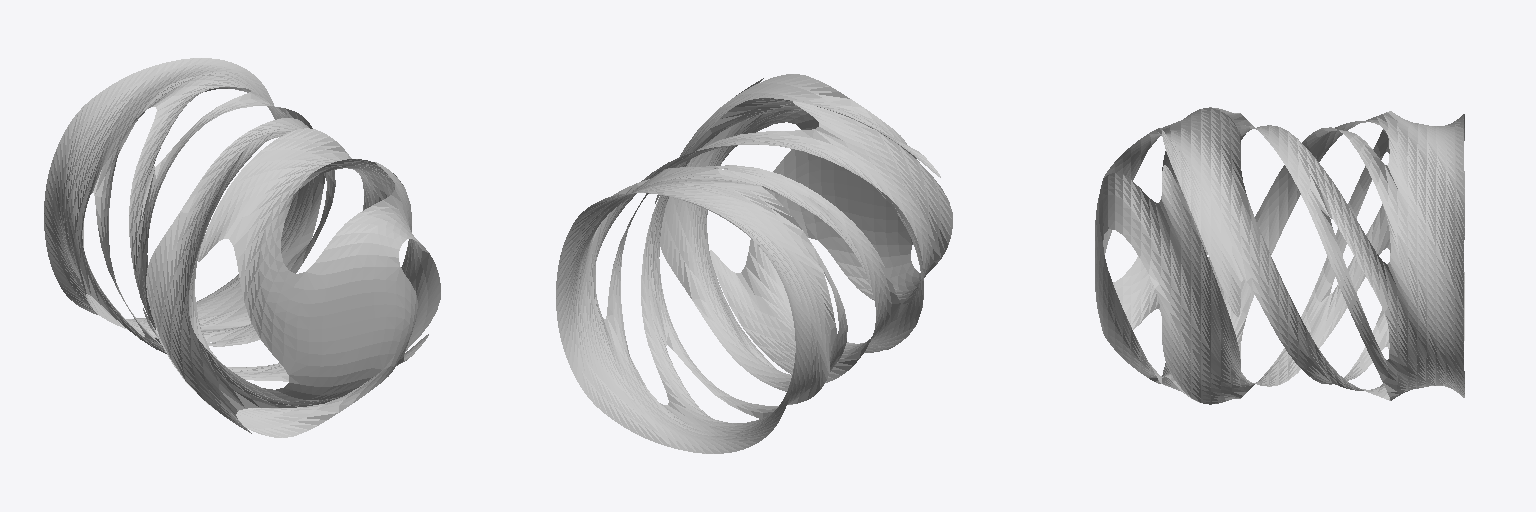
The model's file is lampC-sub2t.obj.
The picture shows the model from 3 angles: view 1: azimuth 30°, elevation 25°; view 2: azimuth 150°, elevation 25°; view 3: azimuth 270°, elevation 25°; orthographic projection.
Parts seen in each view (by area): view 1: Plane_Plane.002; view 2: Plane_Plane.002; view 3: Plane_Plane.002.
Part boxes in pixels (left/top/right/bottom): Plane_Plane.002: left=44, top=58, right=440, bottom=437; Plane_Plane.002: left=556, top=74, right=952, bottom=453; Plane_Plane.002: left=1095, top=107, right=1464, bottom=404.
Bounding box in the file's own units: 4.19 × 4.19 × 5.03.